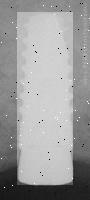MIS: (16, 12, 73, 185)
